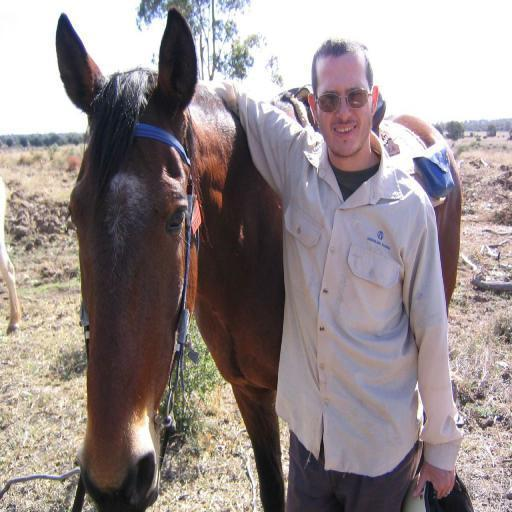horse: (52, 4, 462, 512), (0, 176, 25, 332)
